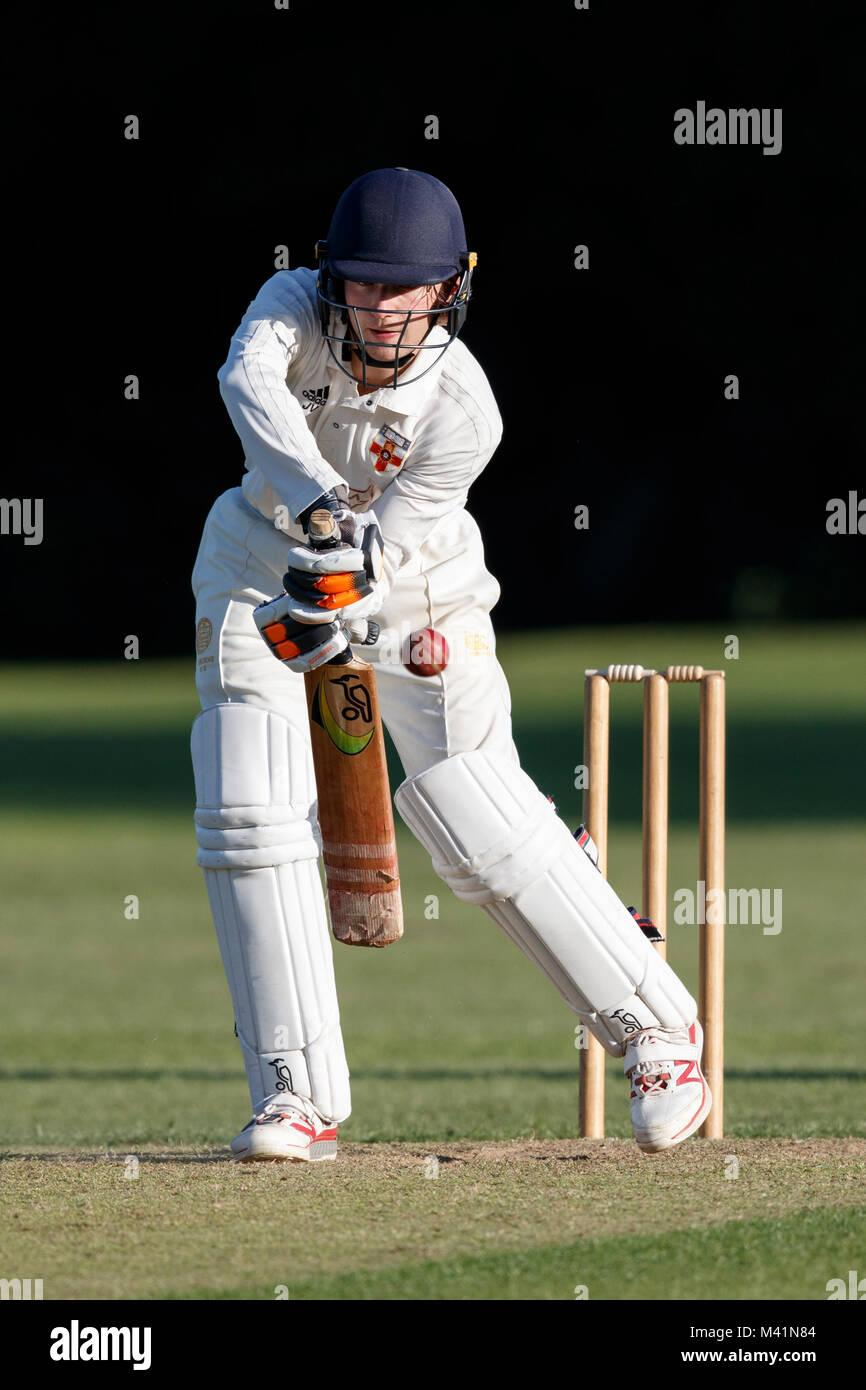batsman: (180, 162, 716, 1166)
